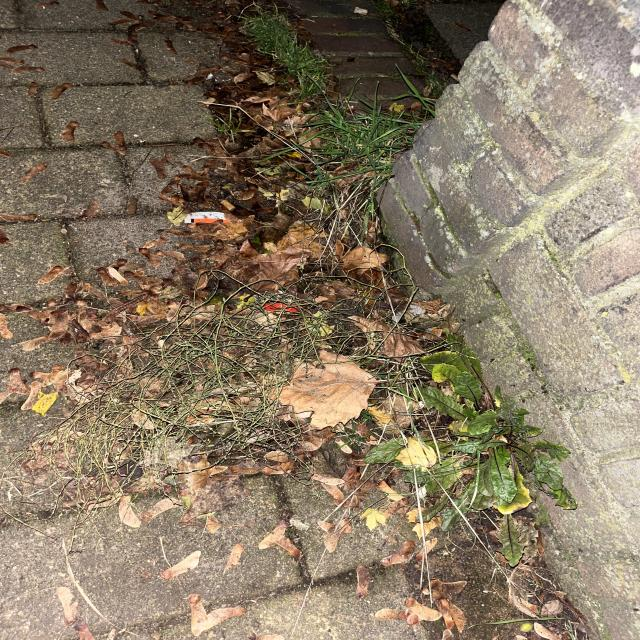leaves: (40, 243, 380, 328), (210, 108, 354, 252), (274, 349, 389, 434), (382, 580, 477, 635), (176, 585, 261, 640), (187, 454, 306, 490), (109, 489, 185, 532), (261, 518, 305, 564)
pavement: (0, 482, 419, 636), (0, 1, 217, 216), (0, 214, 174, 272), (0, 282, 49, 364)
weed: (396, 358, 579, 521), (302, 104, 420, 198), (241, 7, 331, 93)
